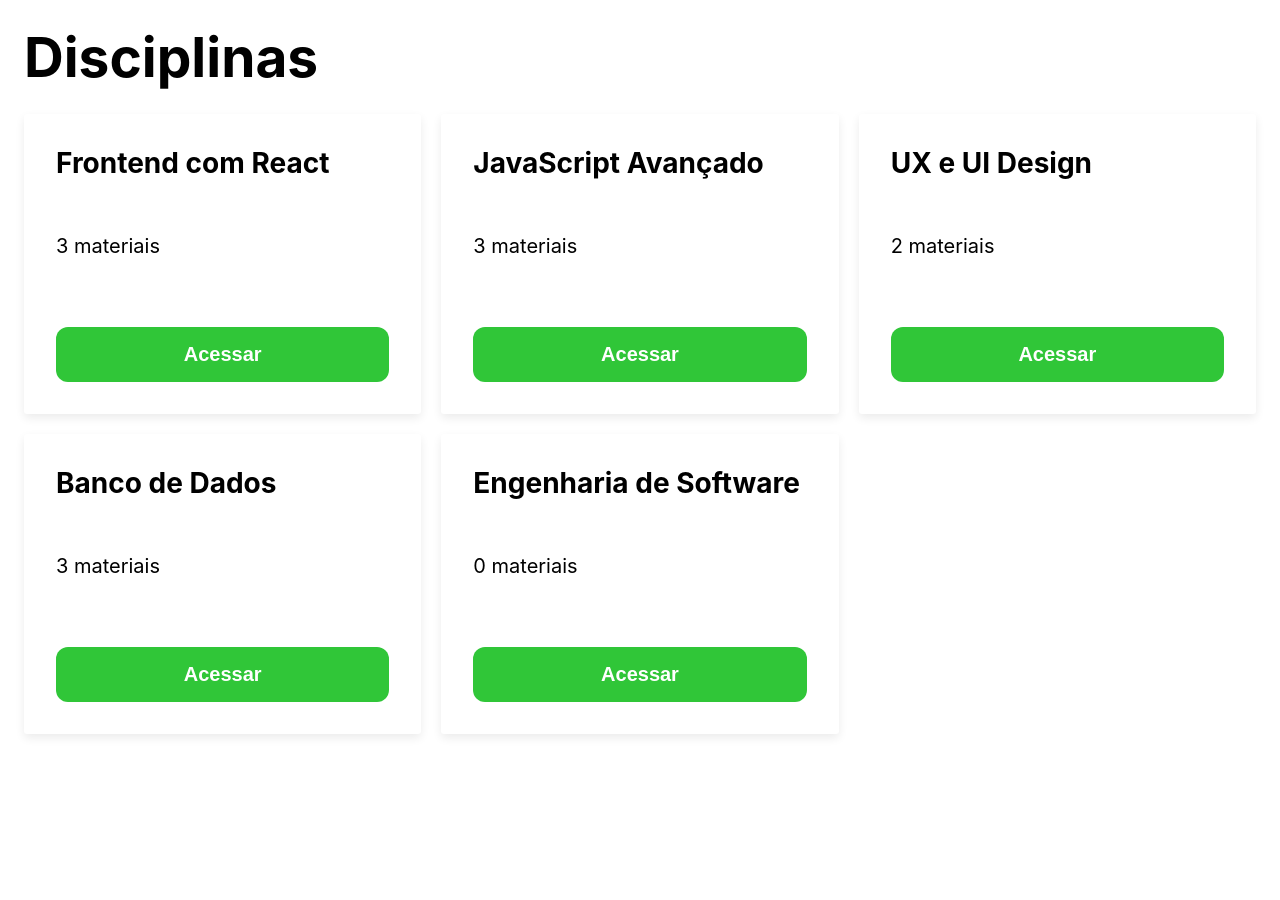
Scenario: VisualizarPage › exibe mensagem quando a disciplina não possui materiais
The image size is (1280, 900).
Click the button "Acessar" below "Engenharia de Software": point(640, 674) [473,647,807,702]
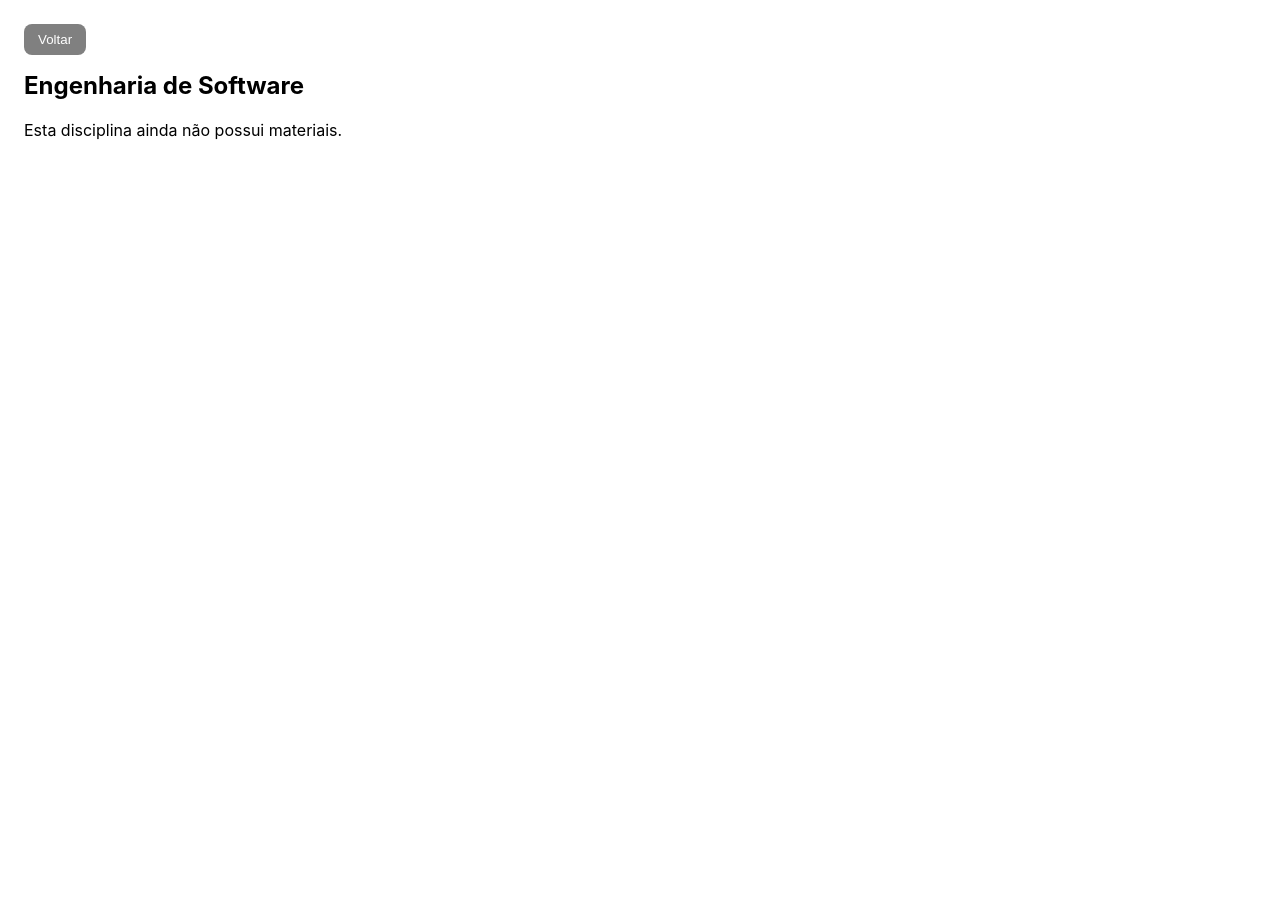
Expected: the heading "Engenharia de Software" is shown, [24,71,304,100]
Expected: the text "Esta disciplina ainda não possui materiais." is shown, [24,120,342,140]
